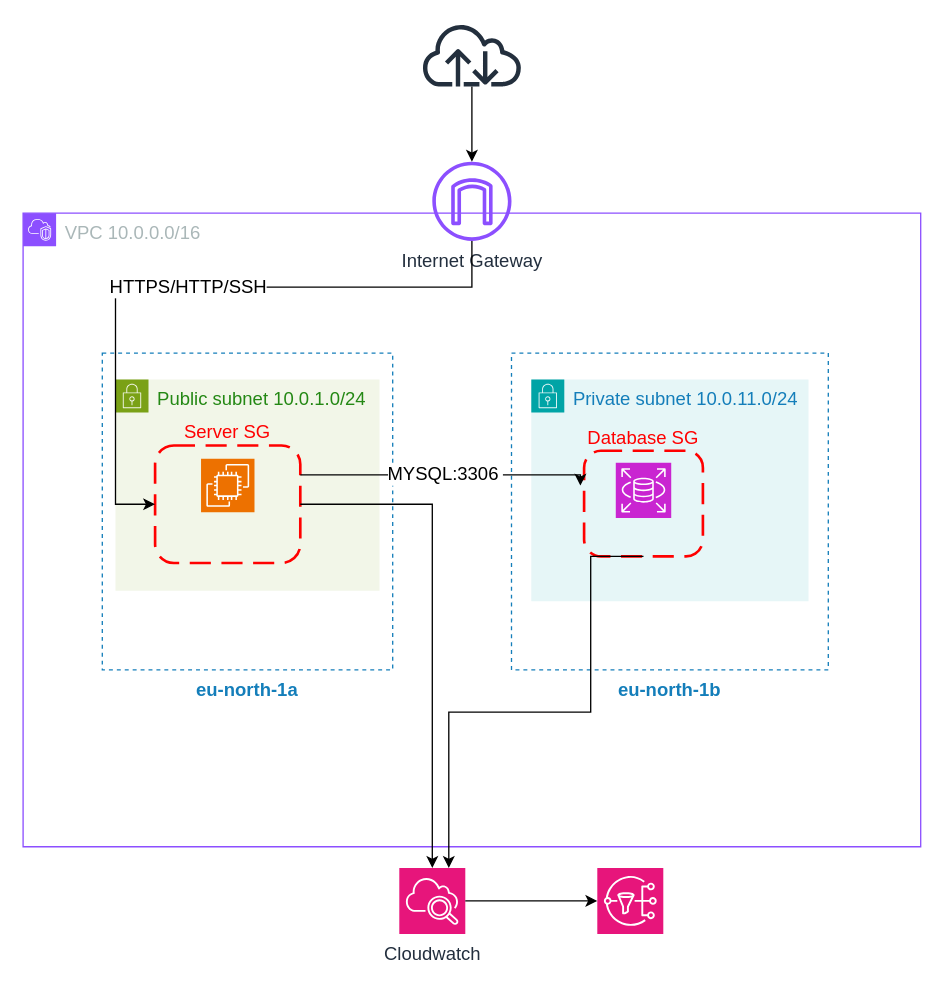
Image size: 944x987. Some labels were removed from this diagram. The centre of each missing label's shape, as x and y in pixels:
EC2 Instance: the point at 227,484
Internet: the point at 471,54
RDS: the point at 642,489
SNS: the point at 629,900
